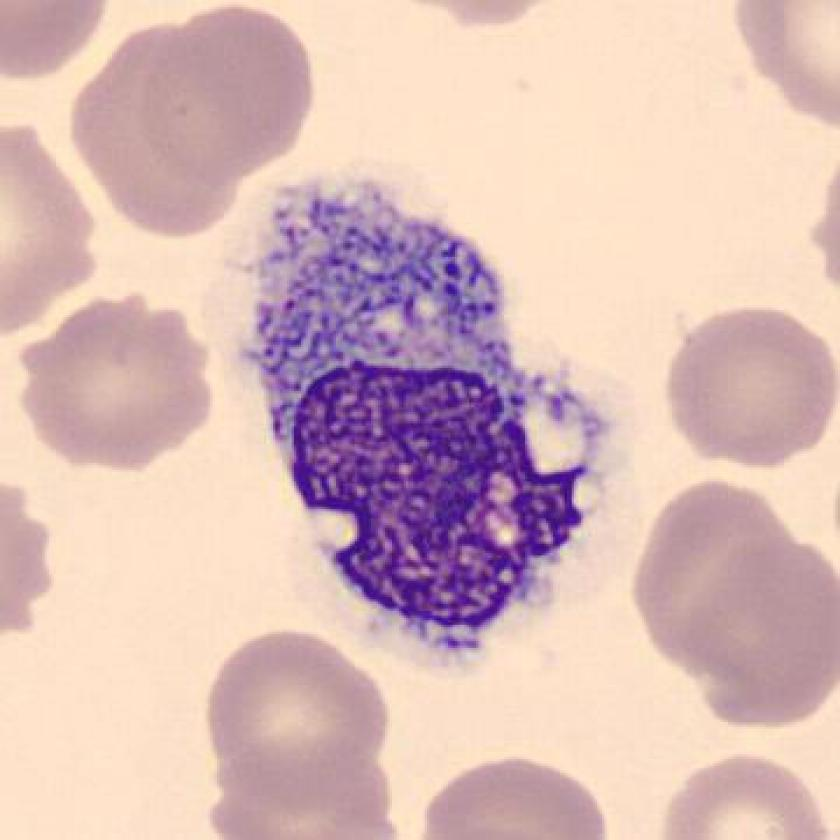monocyte: (204, 152, 652, 691)
